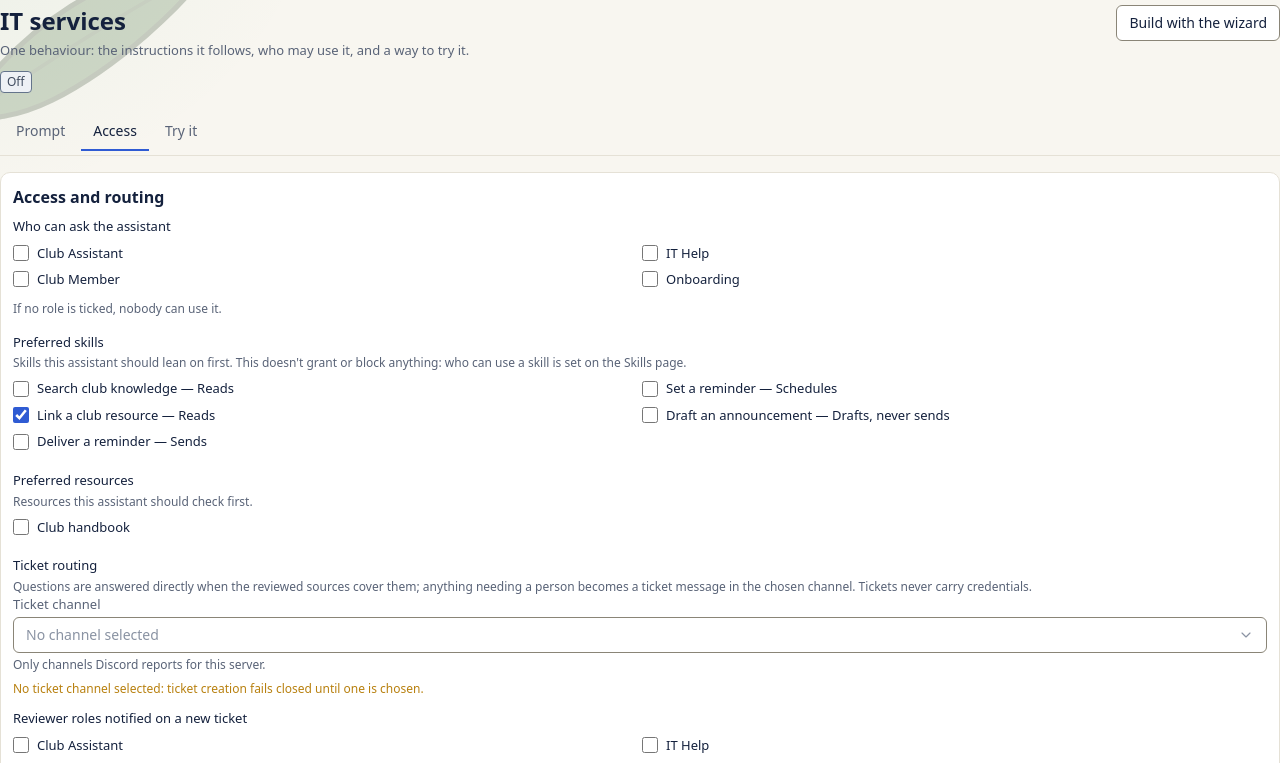
Test: AssistantPage › configures ticket routing for it-services with a fail-closed empty channel
Expected: the text "No ticket channel selected: ticket creation fails closed until one is chosen." is shown, [13,680,424,697]
Click the dropdown named "Ticket channel". click: (92, 635)
box: [13,617,1267,653]
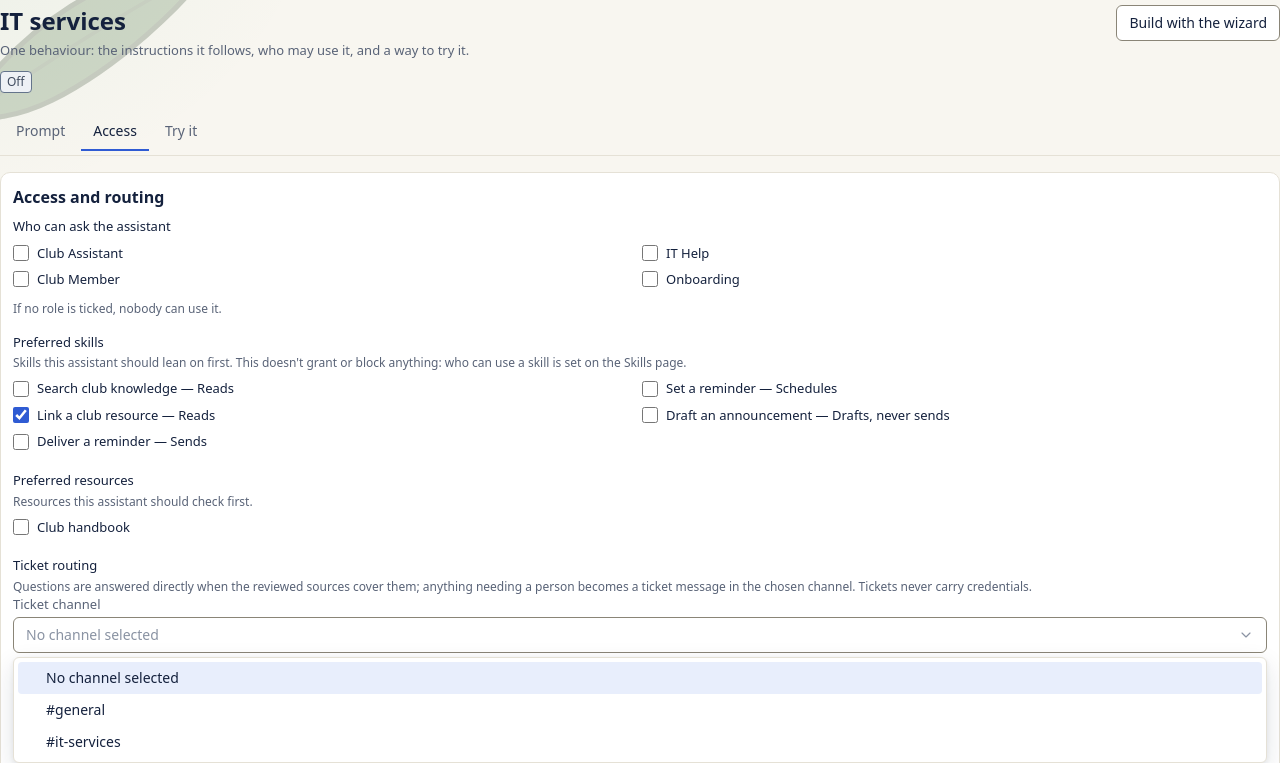
Click the option "#it-services". click: (83, 742)
box: [46,732,121,751]
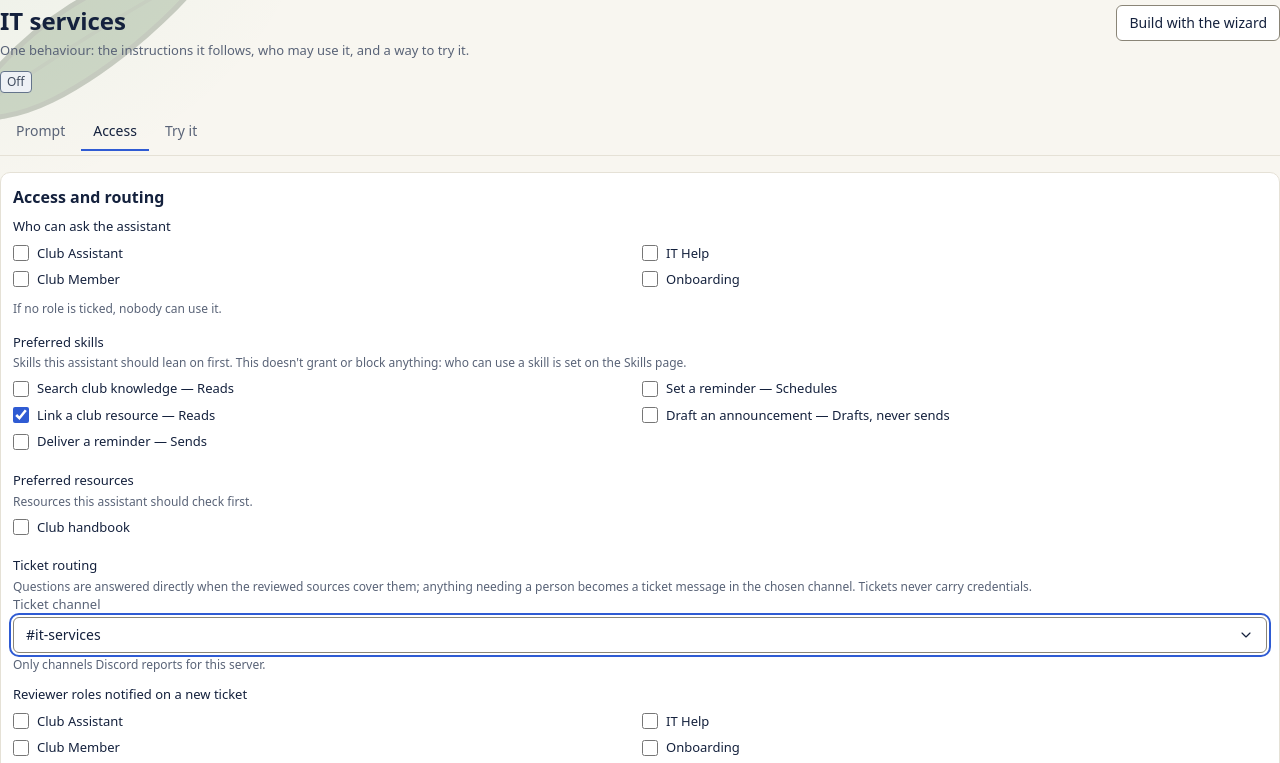
Click the checkbox labelled "Club Member" below "Reviewer roles notified on a new ticket". click: (21, 748)
box: [13,740,29,756]
(page scrolled)
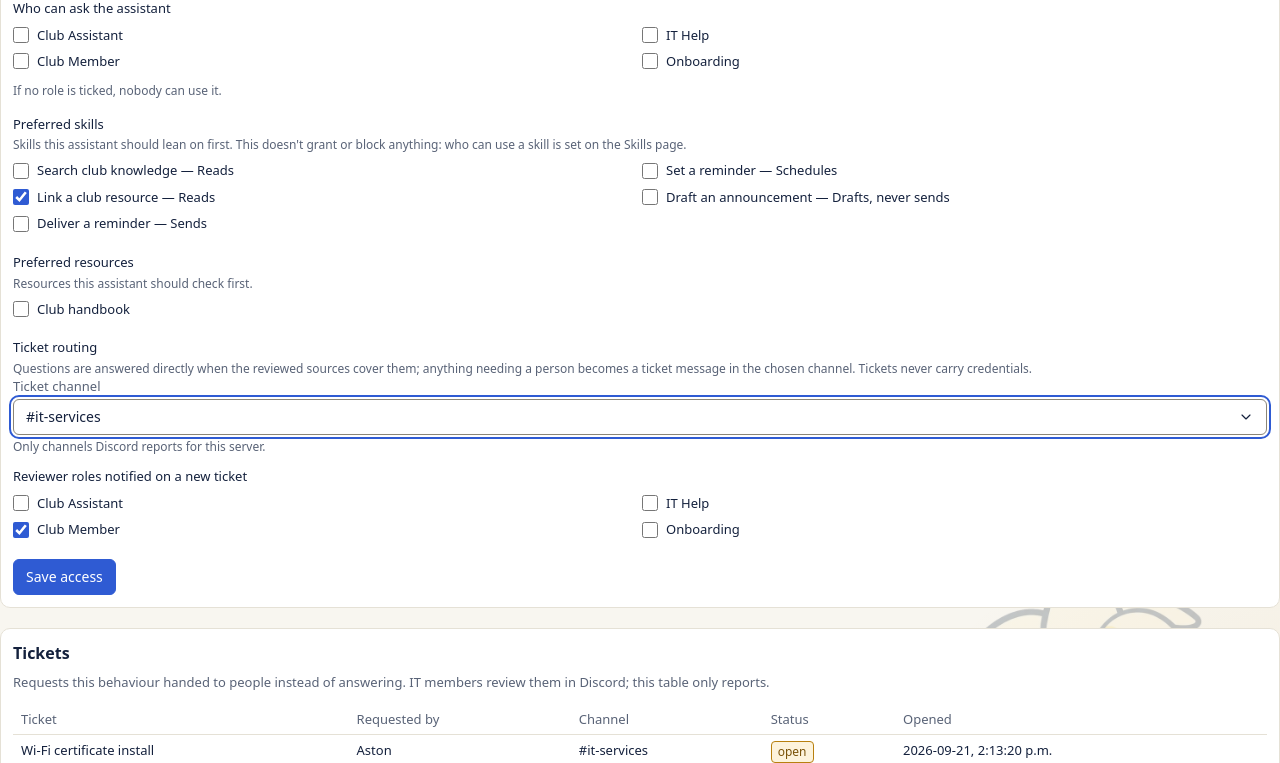
Click the button "Save access". click: (64, 577)
box: [13,559,116,595]
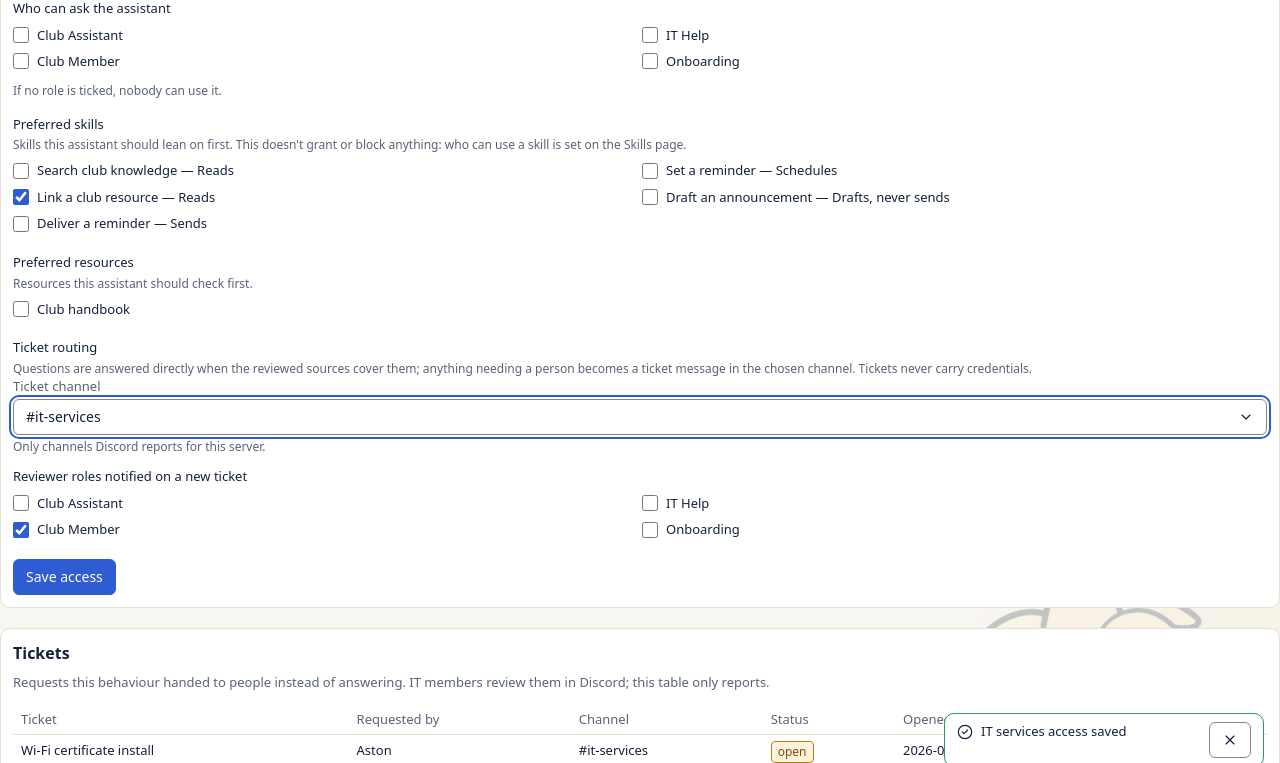
Expected: the text "IT services access saved" is shown, [981,722,1126,740]
